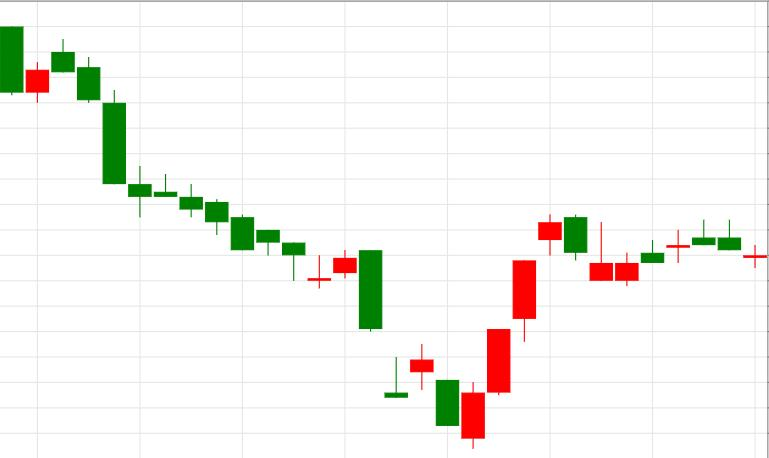three_white_soldiers_rise: (359, 250, 536, 449)
